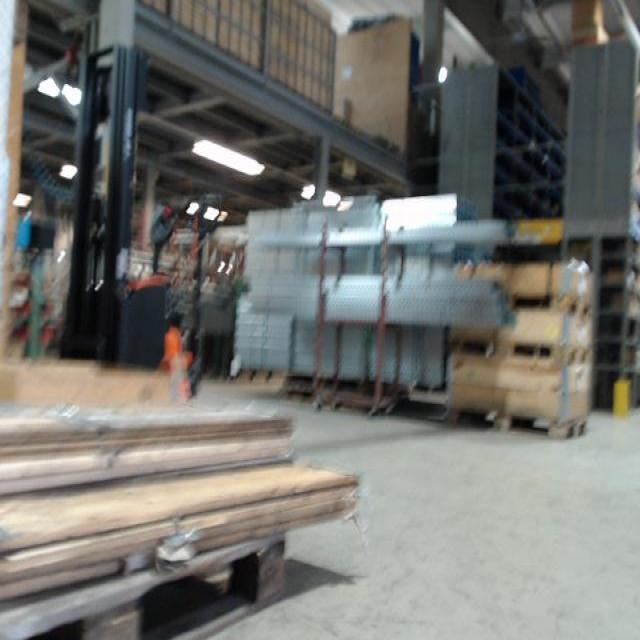pallet: (2, 524, 301, 637), (444, 402, 593, 439), (444, 338, 593, 365), (509, 295, 598, 317)
pallet_truck: (65, 41, 187, 371)
